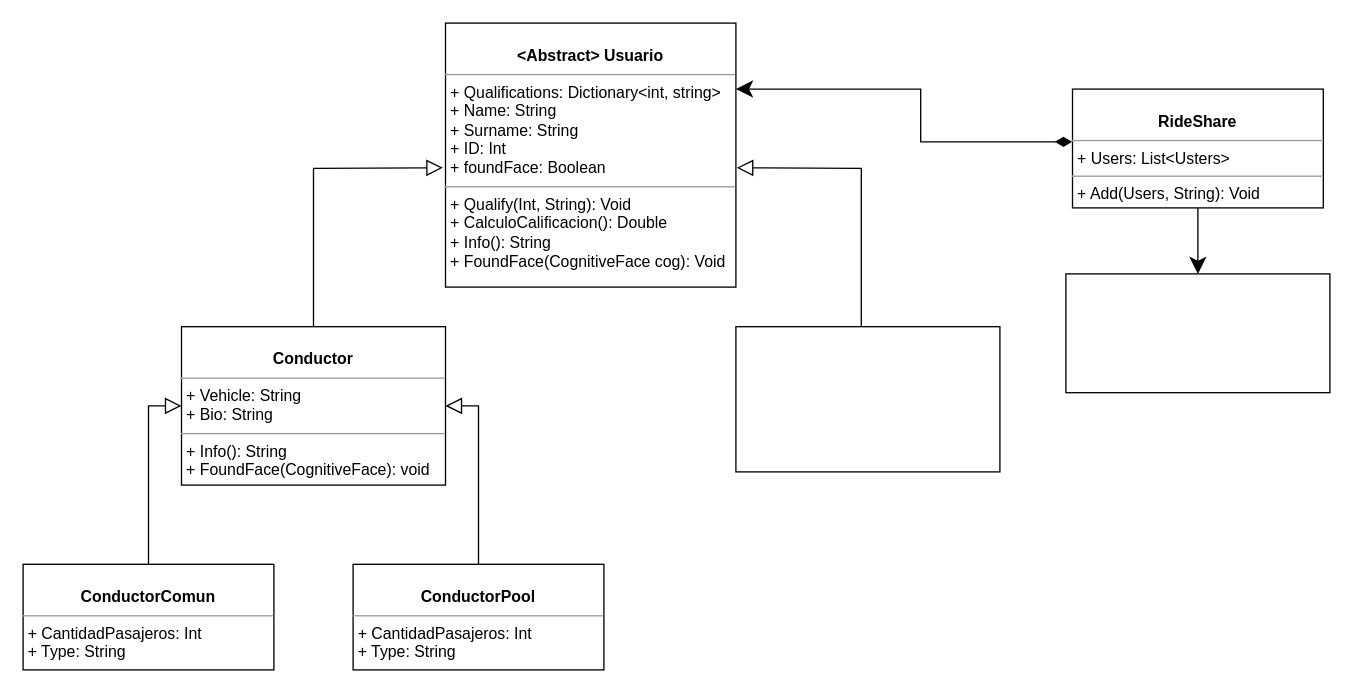
Image size: 1353x693. Some labels were removed from this diagram. Here are the shapes that lost their labels. From the top down, the box of each, then its label:
(1065, 273, 1330, 393): RegistroTwitter + Registro(Users, String): Void
(735, 325, 1000, 472): Pasajero + Info(): String + FoundFace(CognitiveFace): void
